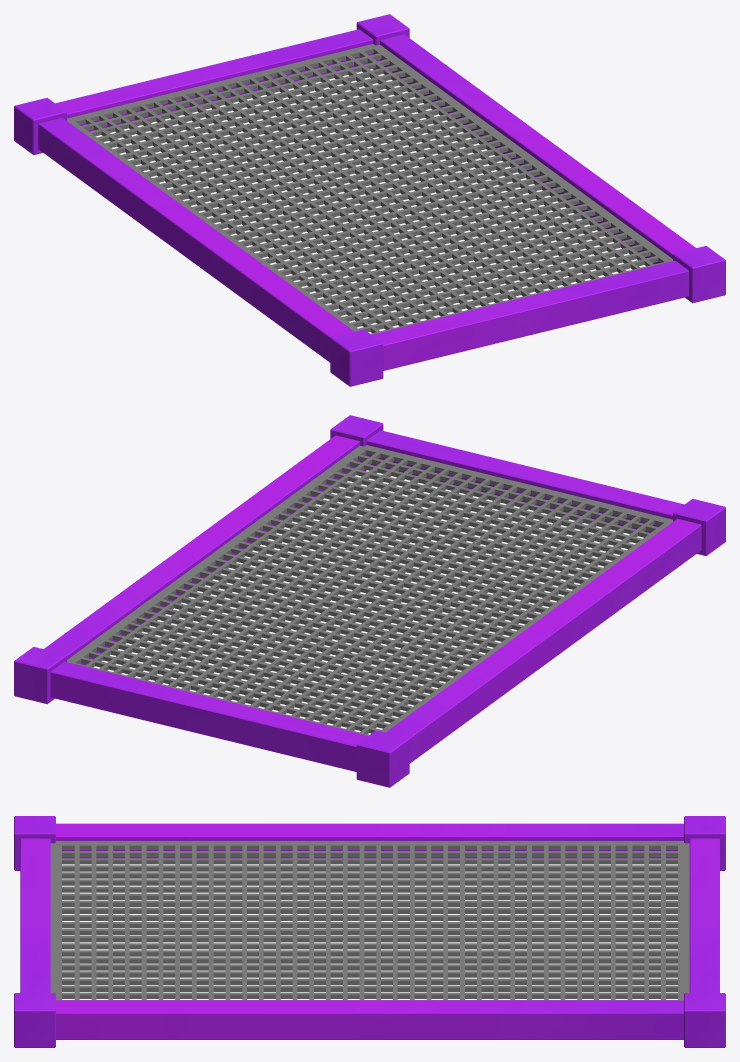
File: DoubleBridge1SegmentPink.fbx
3 views of the same model, one above another, from view 1: azimuth 30°, elevation 25°; view 2: azimuth 150°, elevation 25°; view 3: azimuth 270°, elevation 25° (orthographic). The views are drawn at different scales.
Visible parts, largest first — view 1: Grate.001, Cube.001; view 2: Grate.001, Cube.001; view 3: Grate.001, Cube.001.
Boxes of the visible parts, <box> form: Grate.001: <box>67,44,672,334</box>; Cube.001: <box>14,14,725,386</box>; Grate.001: <box>67,445,672,735</box>; Cube.001: <box>14,415,725,787</box>; Grate.001: <box>50,841,689,1000</box>; Cube.001: <box>14,816,725,1047</box>.
Size of the model in its own units: 11 by 1 by 17.
